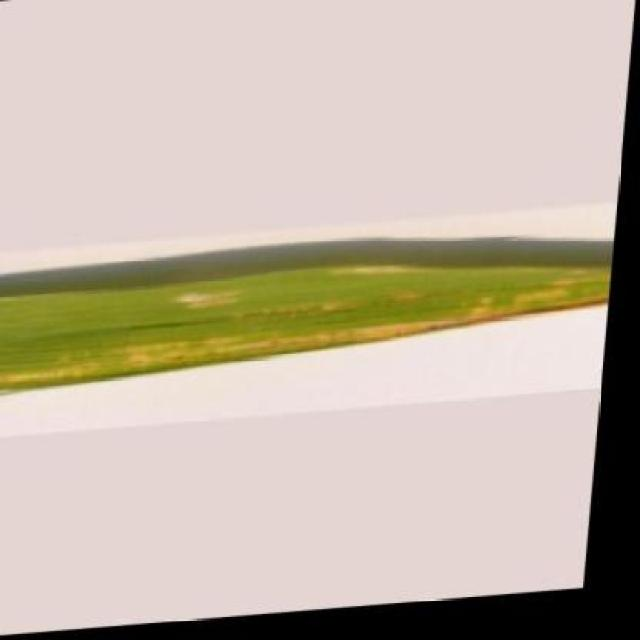Brown_Spot: (0, 247, 620, 411)
